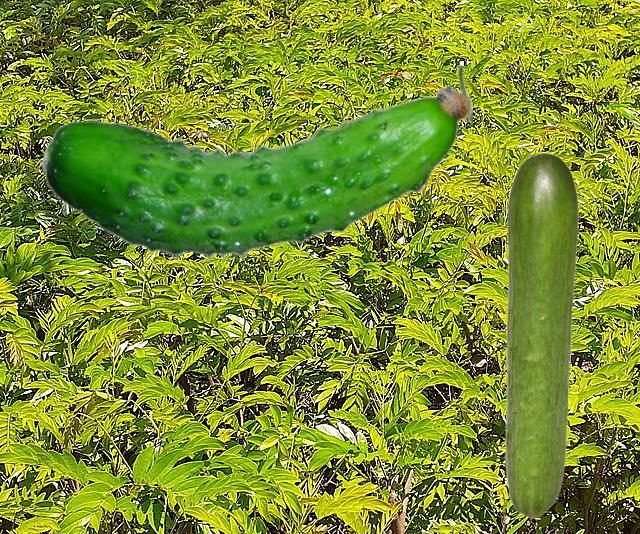cucumber: (38, 64, 471, 260), (504, 152, 578, 518)
